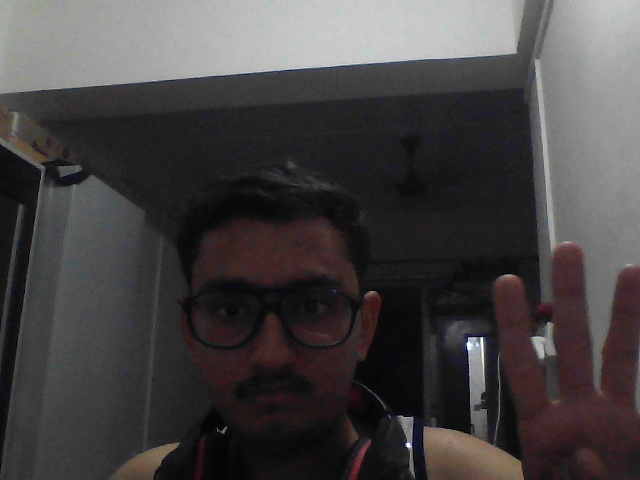Hello: (469, 234, 640, 480)
